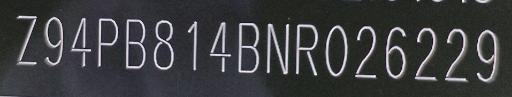letter: (472, 26, 504, 87), (320, 21, 354, 78), (350, 23, 382, 82), (442, 25, 472, 86), (262, 19, 294, 76), (412, 24, 442, 83), (292, 18, 322, 77), (380, 23, 410, 82), (149, 17, 181, 72), (231, 19, 263, 74), (12, 12, 42, 67), (66, 14, 94, 69), (94, 15, 122, 70), (205, 18, 233, 73), (121, 16, 149, 69), (42, 13, 68, 68), (180, 19, 204, 72)
